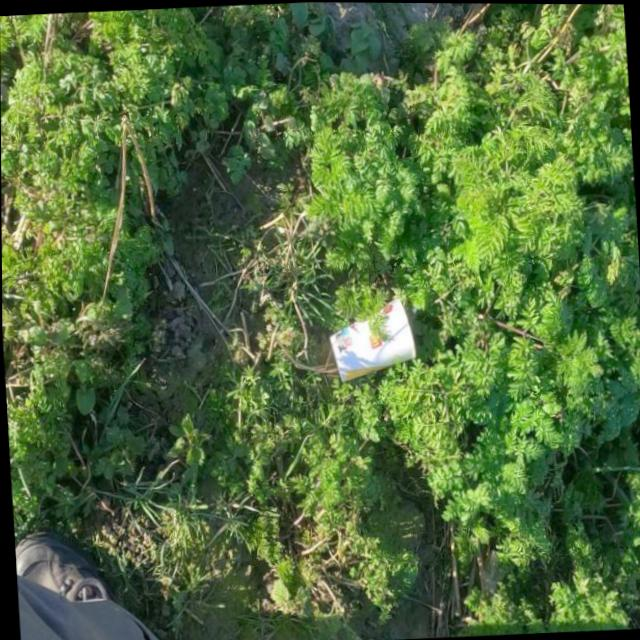Cup: (326, 291, 419, 384)
